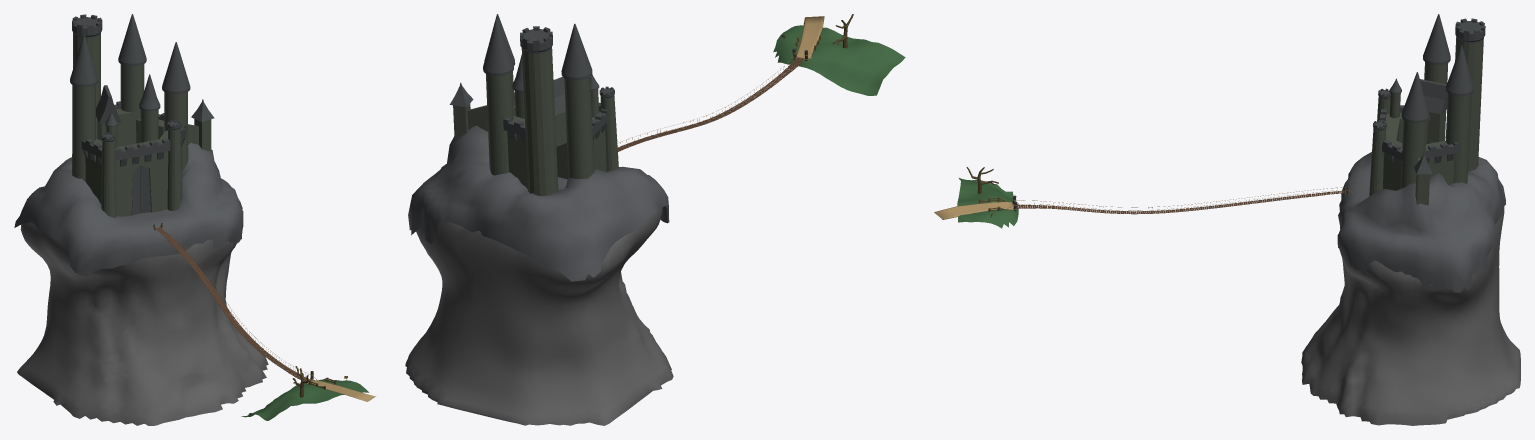
The model's file is MainMenuSetup.glb.
3 views of the same model, side by side, from view 1: azimuth 30°, elevation 25°; view 2: azimuth 150°, elevation 25°; view 3: azimuth 270°, elevation 25° (orthographic). The views are drawn at different scales.
Visible parts, largest first — view 1: Cube.009, Plane.004, Plane.005, Ground.003, RopeBridge, Plane.003, Pathway.002, Plane.006; view 2: Cube.009, Plane.005, Plane.004, Ground.003, RopeBridge, Pathway.002; view 3: Cube.009, Plane.005, Plane.004, Ground.003, RopeBridge, Pathway.002.
Boxes of the visible parts, x1=… form: Cube.009: x1=17, y1=222, x2=268, y2=425; Plane.004: x1=70, y1=14, x2=214, y2=217; Plane.005: x1=14, y1=143, x2=243, y2=276; Ground.003: x1=241, y1=379, x2=368, y2=420; RopeBridge: x1=155, y1=225, x2=310, y2=380; Plane.003: x1=140, y1=165, x2=150, y2=213; Pathway.002: x1=307, y1=380, x2=375, y2=401; Plane.006: x1=131, y1=166, x2=140, y2=215; Cube.009: x1=405, y1=208, x2=673, y2=425; Plane.005: x1=408, y1=125, x2=669, y2=281; Plane.004: x1=449, y1=14, x2=618, y2=196; Ground.003: x1=773, y1=25, x2=905, y2=95; RopeBridge: x1=617, y1=53, x2=804, y2=151; Pathway.002: x1=796, y1=16, x2=824, y2=58; Cube.009: x1=1301, y1=206, x2=1520, y2=425; Plane.005: x1=1337, y1=152, x2=1505, y2=292; Plane.004: x1=1369, y1=14, x2=1485, y2=205; Ground.003: x1=957, y1=178, x2=1018, y2=228; RopeBridge: x1=1013, y1=187, x2=1346, y2=214; Pathway.002: x1=934, y1=201, x2=1013, y2=219.
Size of the model in its own units: 29.54 by 45.52 by 71.57.
